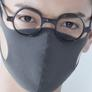with_mask: (2, 1, 92, 92)
